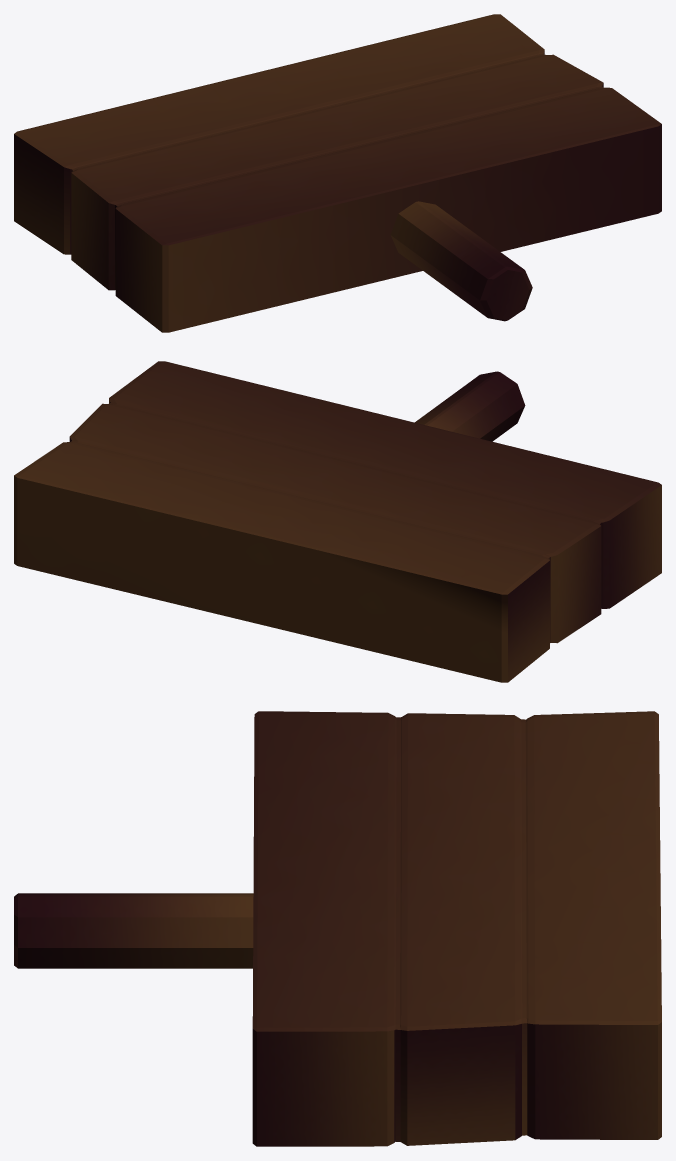
Rendered from sign.fbx.
3 renders of one model, top to bottom at view 1: azimuth 30°, elevation 25°; view 2: azimuth 150°, elevation 25°; view 3: azimuth 270°, elevation 25°, orthographic. The views are drawn at different scales.
Parts seen in each view (by area): view 1: Cube; view 2: Cube; view 3: Cube.
Boxes of the visible parts, bbox=[...] form: Cube: bbox=[14, 14, 661, 332]; Cube: bbox=[14, 361, 661, 682]; Cube: bbox=[14, 711, 661, 1146].
Bounding box in the file's own units: 94.65 × 16.72 × 80.79.
1 material, 1 textured.
